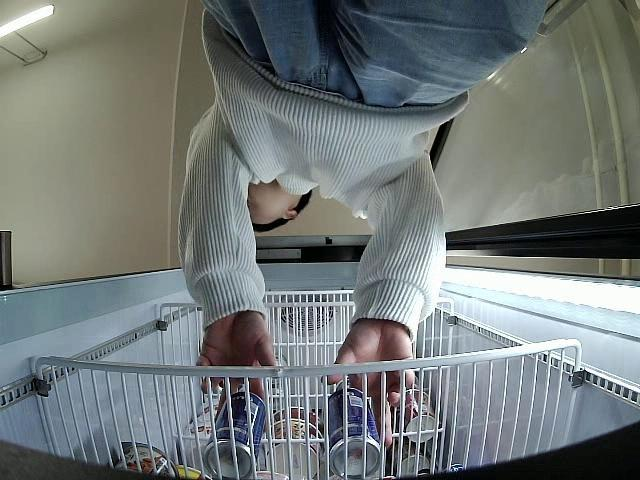16_hot6: (202, 392, 267, 480), (325, 390, 382, 479)
